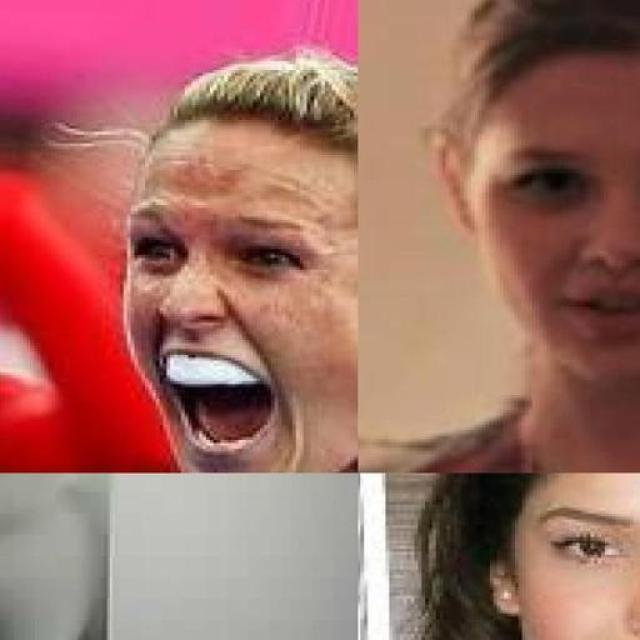bareface: (107, 97, 350, 479)
